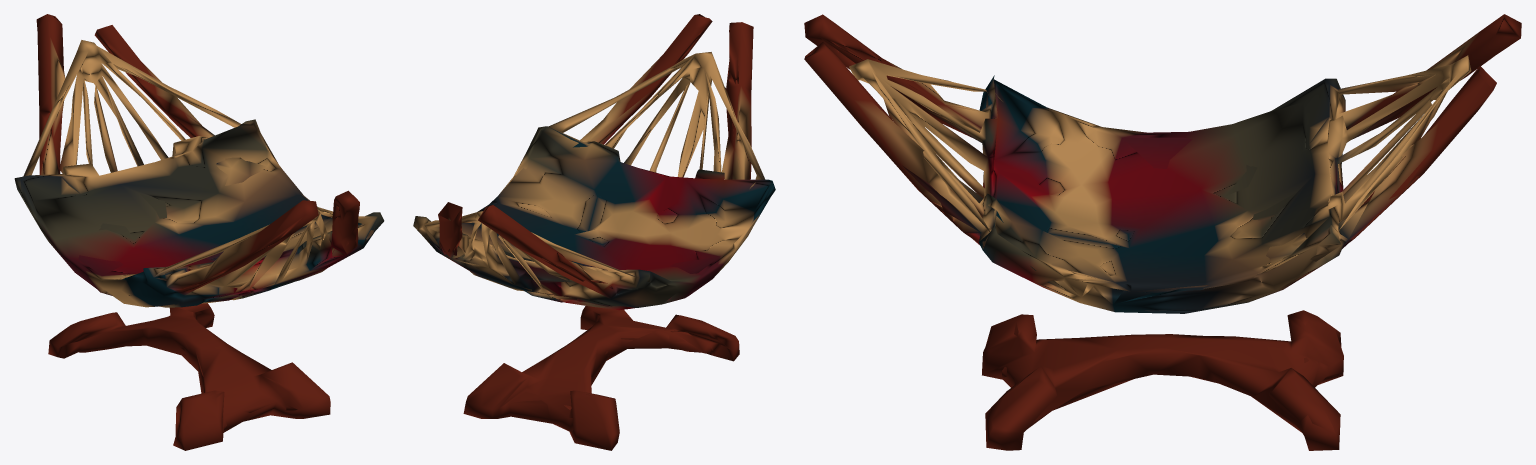
Rendered from gen3d-hammock-lod0.glb.
The picture shows the model from 3 angles, left to right: view 1: azimuth 30°, elevation 25°; view 2: azimuth 150°, elevation 25°; view 3: azimuth 270°, elevation 25°; orthographic projection. The views are drawn at different scales.
Parts seen in each view (by area): view 1: part_0; view 2: part_0; view 3: part_0.
Part boxes in pixels (x1=…): part_0: x1=14, y1=14, x2=384, y2=450; part_0: x1=413, y1=14, x2=775, y2=450; part_0: x1=804, y1=14, x2=1521, y2=450.
Size of the model in its own units: 0.8968 by 0.9996 by 1.72.
